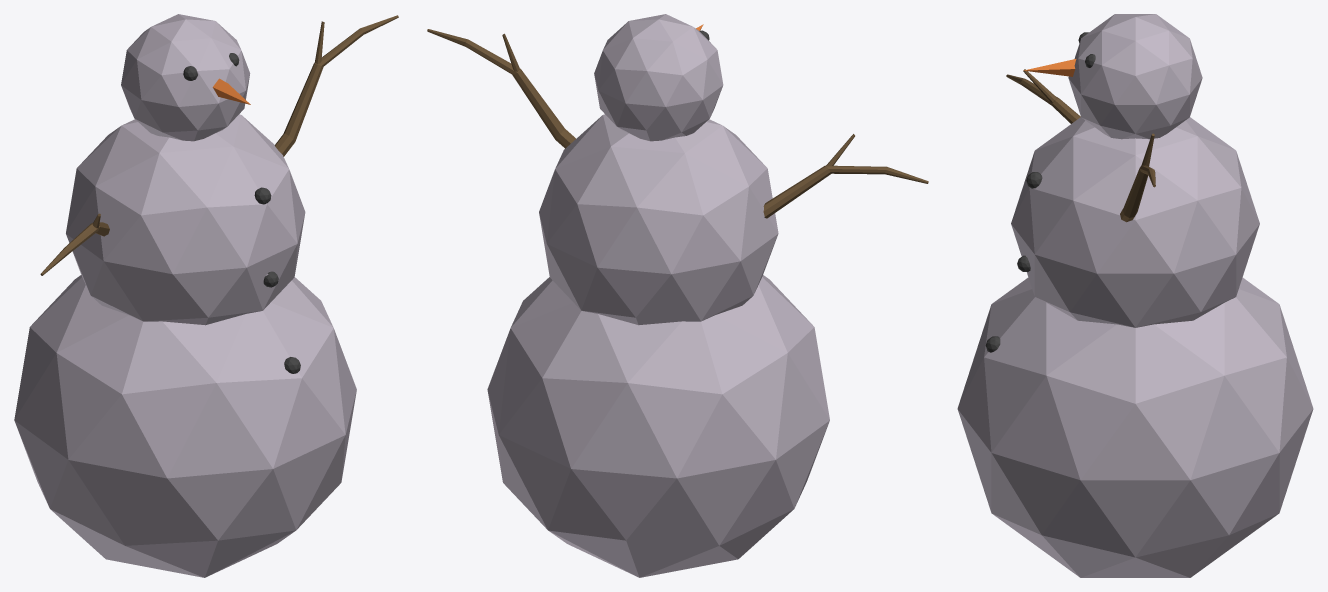
Rendered from SNOWMAN.fbx.
3 renders of one model, left to right at view 1: azimuth 30°, elevation 25°; view 2: azimuth 150°, elevation 25°; view 3: azimuth 270°, elevation 25°, orthographic.
Parts seen in each view (by area): view 1: Snowmen; view 2: Snowmen; view 3: Snowmen.
Part boxes in pixels (x1=…): Snowmen: x1=14, y1=14, x2=398, y2=577; Snowmen: x1=427, y1=14, x2=928, y2=577; Snowmen: x1=957, y1=14, x2=1313, y2=577.
Size of the model in its own units: 315 by 382 by 223.
